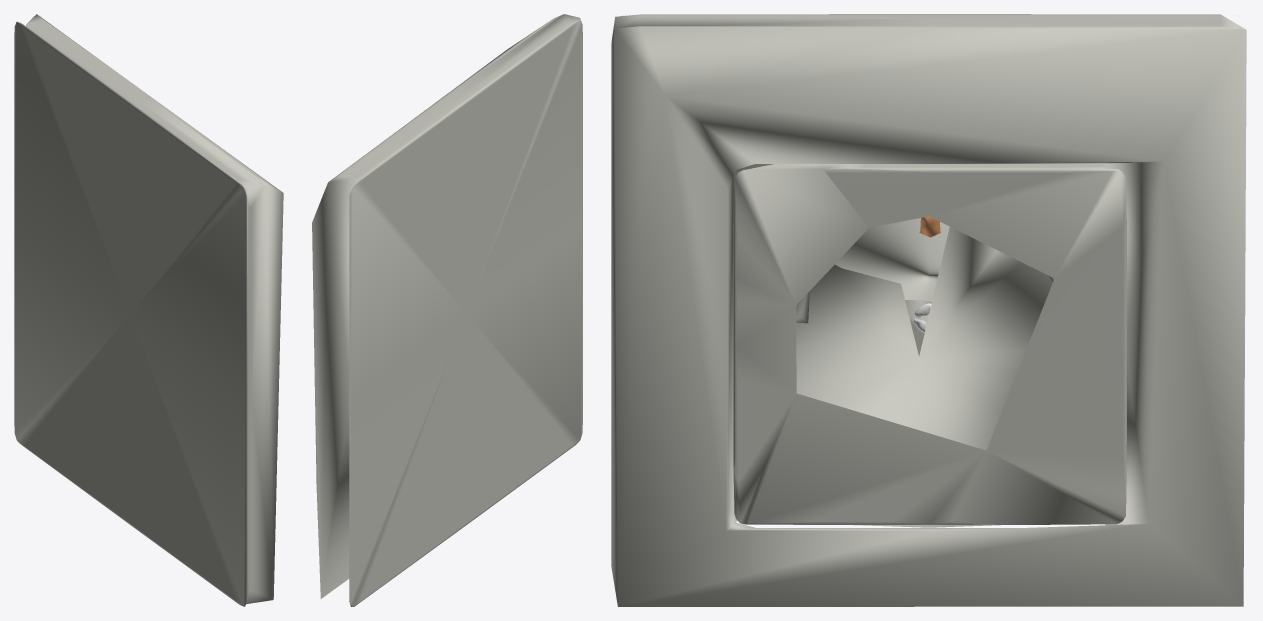
File: fixture_socket_a01.glb
3 views of the same model, side by side, from view 1: azimuth 30°, elevation 25°; view 2: azimuth 150°, elevation 25°; view 3: azimuth 270°, elevation 25° (orthographic). The views are drawn at different scales.
Parts seen in each view (by area): view 1: sm_fixture_socket_a01_01; view 2: sm_fixture_socket_a01_01; view 3: sm_fixture_socket_a01_01.
Boxes of the visible parts, box(x1,y1,x2,y2) form: sm_fixture_socket_a01_01: box(14, 14, 283, 606); sm_fixture_socket_a01_01: box(312, 14, 582, 606); sm_fixture_socket_a01_01: box(611, 14, 1246, 606).
Bounding box in the file's own units: 0.0153 × 0.0892 × 0.0892.
Materials: 3 (3 with a texture image).
